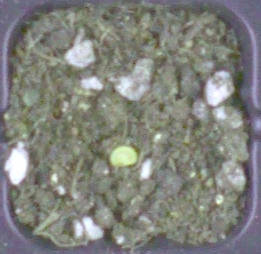pepper seed: (38, 61, 178, 228)
